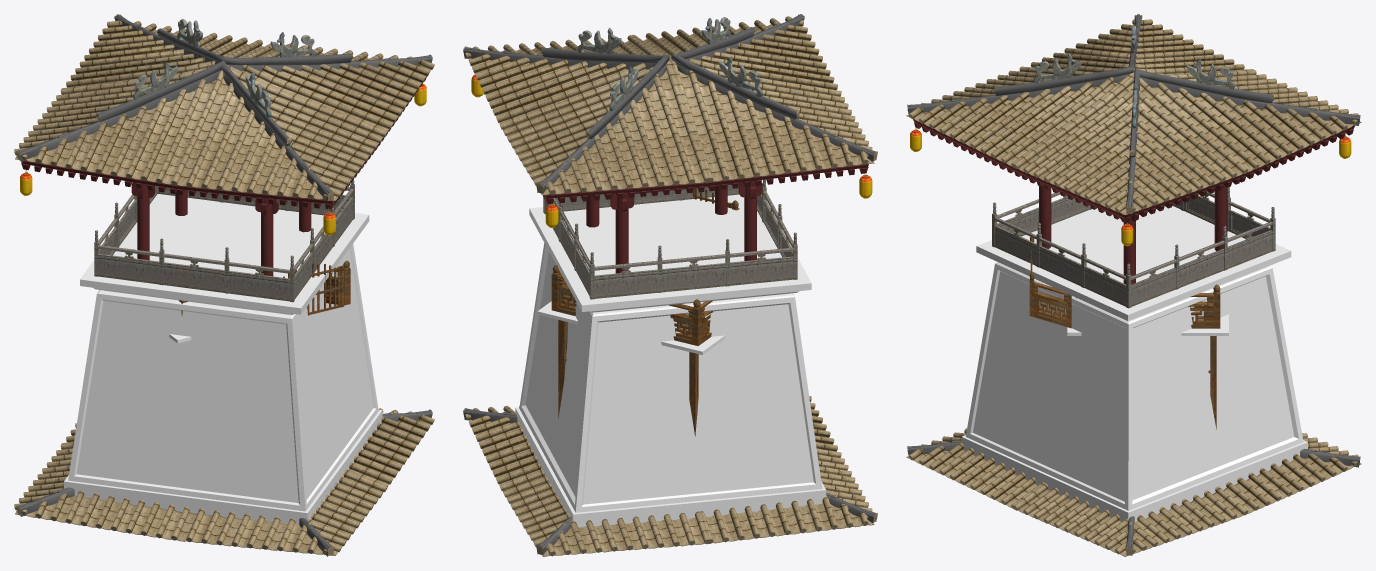
File: gujian6.glb
3 views of the same model, side by side, from view 1: azimuth 30°, elevation 25°; view 2: azimuth 150°, elevation 25°; view 3: azimuth 270°, elevation 25° (orthographic). The views are drawn at different scales.
Parts seen in each view (by area): view 1: Cylinder342.003, Object68.001, Object66.001, Object2829.002, Shape25.003, Cylinder879.002, Object55.001, Object2566.001, Box2109, Circle21.001; view 2: Cylinder342.003, Object68.001, Object66.001, Object2829.002, Shape25.003, Cylinder879.002, Object55.001, Box2109, Object2566.001, Box2146, Box2115, Circle21.001; view 3: Object68.001, Cylinder342.003, Object2829.002, Object66.001, Shape25.003, Cylinder879.002, Object55.001, Box2109, Object2566.001, Circle21.001, Box2115, Box2146.
Part boxes in pixels (box(x1,y1,x2,y2)): Cylinder342.003: box(14, 14, 434, 555); Object68.001: box(68, 215, 378, 511); Object66.001: box(80, 194, 368, 308); Object2829.002: box(94, 179, 354, 302); Shape25.003: box(16, 15, 432, 556); Cylinder879.002: box(21, 76, 426, 276); Object55.001: box(64, 410, 382, 524); Object2566.001: box(133, 19, 315, 117); Box2109: box(178, 260, 350, 316); Circle21.001: box(20, 83, 426, 235); Cylinder342.003: box(463, 14, 877, 556); Object68.001: box(519, 209, 822, 512); Object66.001: box(529, 194, 811, 305); Object2829.002: box(543, 179, 797, 299); Shape25.003: box(463, 15, 877, 554); Cylinder879.002: box(510, 142, 868, 273); Object55.001: box(515, 407, 826, 527); Box2109: box(551, 188, 739, 345); Object2566.001: box(577, 17, 762, 110); Box2146: box(558, 320, 698, 436); Box2115: box(537, 301, 724, 354); Circle21.001: box(471, 74, 872, 227); Object68.001: box(965, 246, 1303, 510); Cylinder342.003: box(906, 14, 1361, 556); Object2829.002: box(992, 187, 1275, 308); Object66.001: box(977, 206, 1290, 314); Shape25.003: box(907, 14, 1360, 550); Cylinder879.002: box(913, 119, 1354, 284); Object55.001: box(961, 435, 1307, 522); Box2109: box(1029, 237, 1220, 328); Object2566.001: box(1034, 25, 1234, 128); Circle21.001: box(910, 128, 1351, 246); Box2115: box(1067, 314, 1228, 335); Box2146: box(1208, 336, 1216, 429).
Size of the model in its own units: 14.64 by 14.51 by 14.64.
14 materials, 8 textured.
